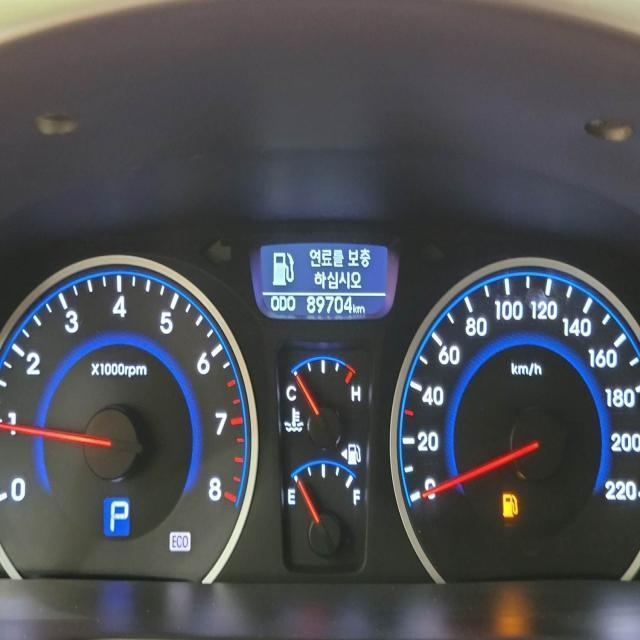Low fuel level: (501, 491, 518, 518)
